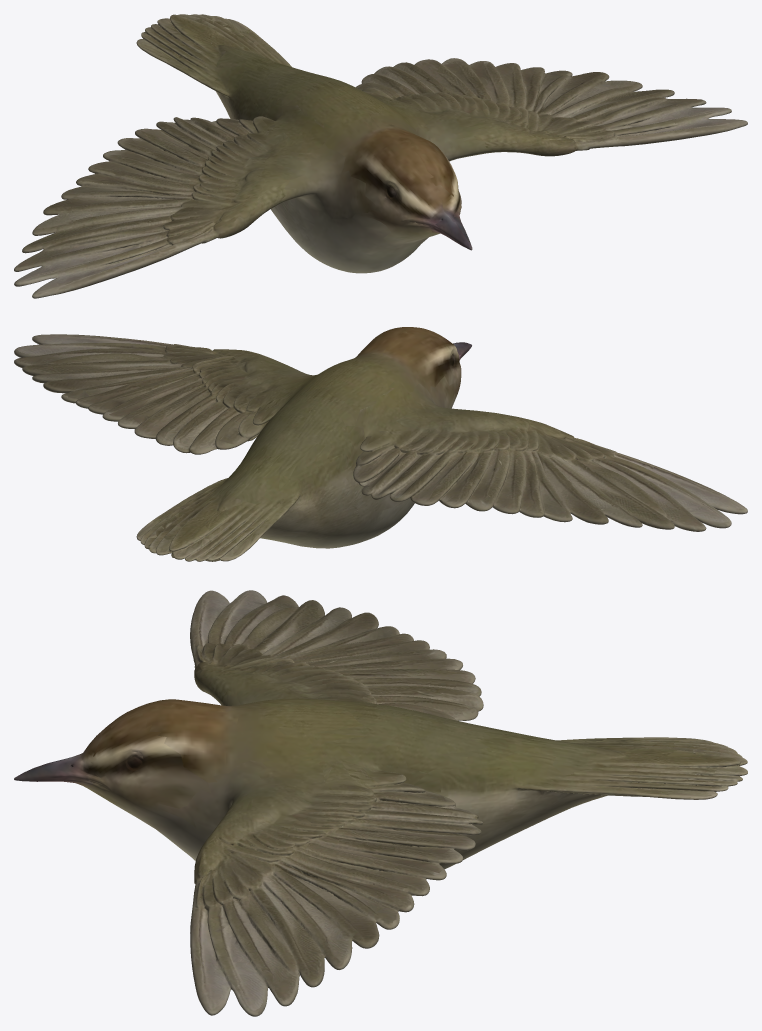
The model's file is Limnothlypis_swainsonii.glb.
The picture shows the model from 3 angles, top to bottom: view 1: azimuth 30°, elevation 25°; view 2: azimuth 150°, elevation 25°; view 3: azimuth 270°, elevation 25°; orthographic projection. The views are drawn at different scales.
Visible parts, largest first — view 1: orient; view 2: orient; view 3: orient.
Part boxes in pixels (left/top/right/bottom): orient: left=14, top=14, right=747, bottom=298; orient: left=14, top=327, right=747, bottom=561; orient: left=14, top=590, right=747, bottom=1016.
Size of the model in its own units: 0.5 by 0.1081 by 0.3667.
Materials: 1 (1 with a texture image).
